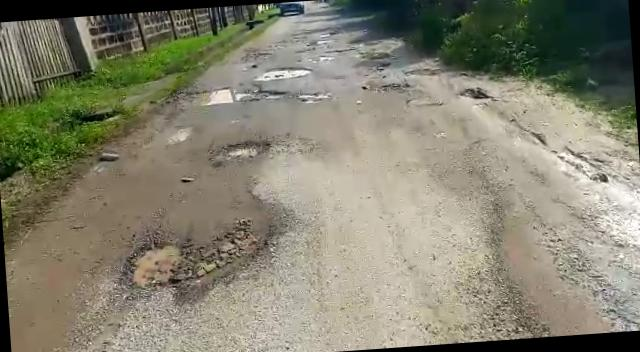pothole: (115, 222, 277, 300), (196, 81, 290, 107), (210, 136, 276, 164), (253, 63, 313, 80), (295, 92, 328, 103)
